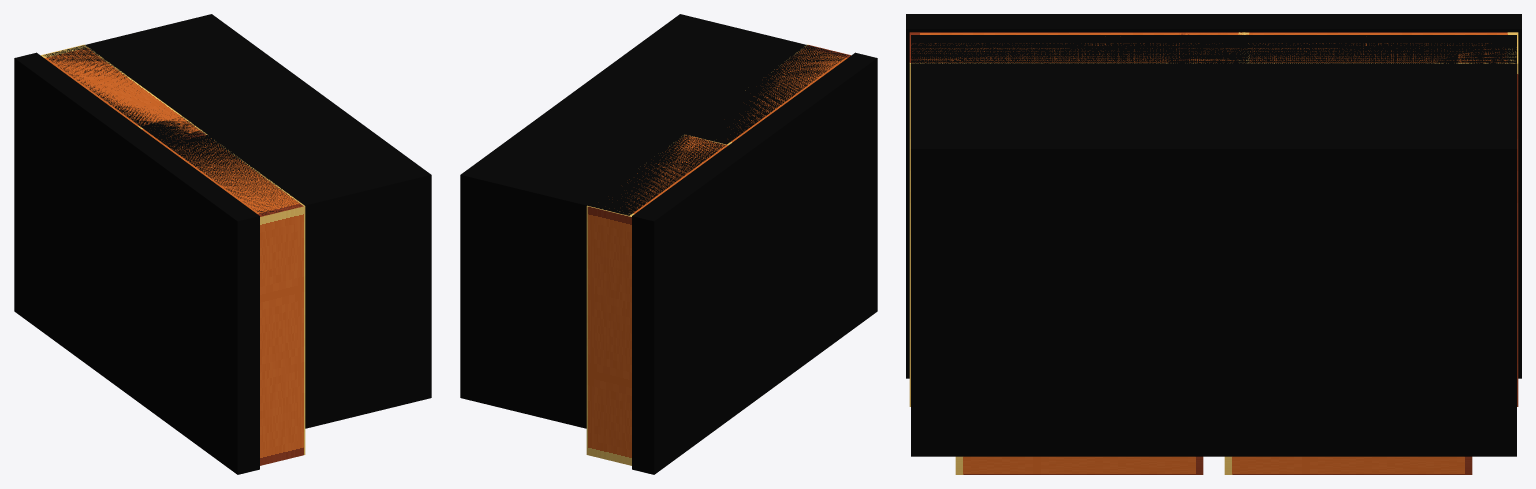
The model's file is bench_boots_5_hot.obj.
3 renders of one model, left to right at view 1: azimuth 30°, elevation 25°; view 2: azimuth 150°, elevation 25°; view 3: azimuth 270°, elevation 25°, orthographic. The views are drawn at different scales.
Visible parts, largest first — view 1: geometry; view 2: geometry; view 3: geometry.
Boxes of the visible parts, left/top/right/bottom form: geometry: left=14, top=14, right=431, bottom=474; geometry: left=460, top=14, right=877, bottom=474; geometry: left=906, top=14, right=1521, bottom=474.
Bounding box in the file's own units: 0.2018 × 0.25 × 0.3991.
